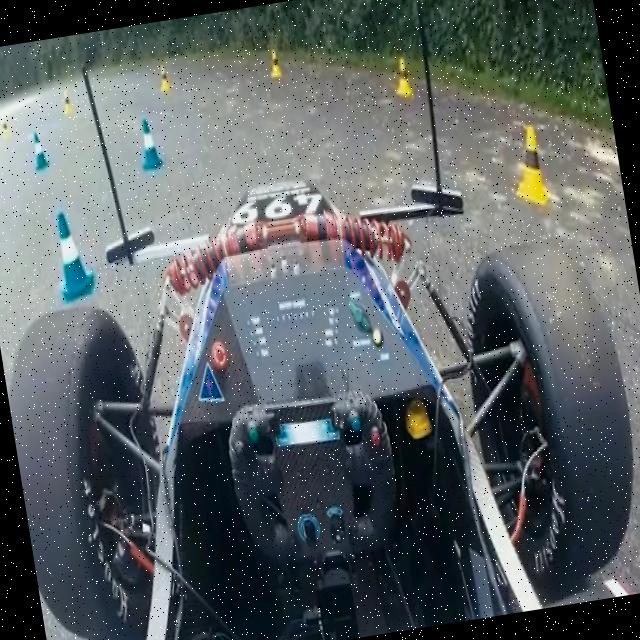blue_cone: (49, 207, 100, 305), (136, 116, 164, 174), (29, 128, 51, 170)
yellow_cone: (508, 123, 553, 207), (392, 56, 414, 98), (156, 64, 173, 94), (268, 48, 284, 78)
